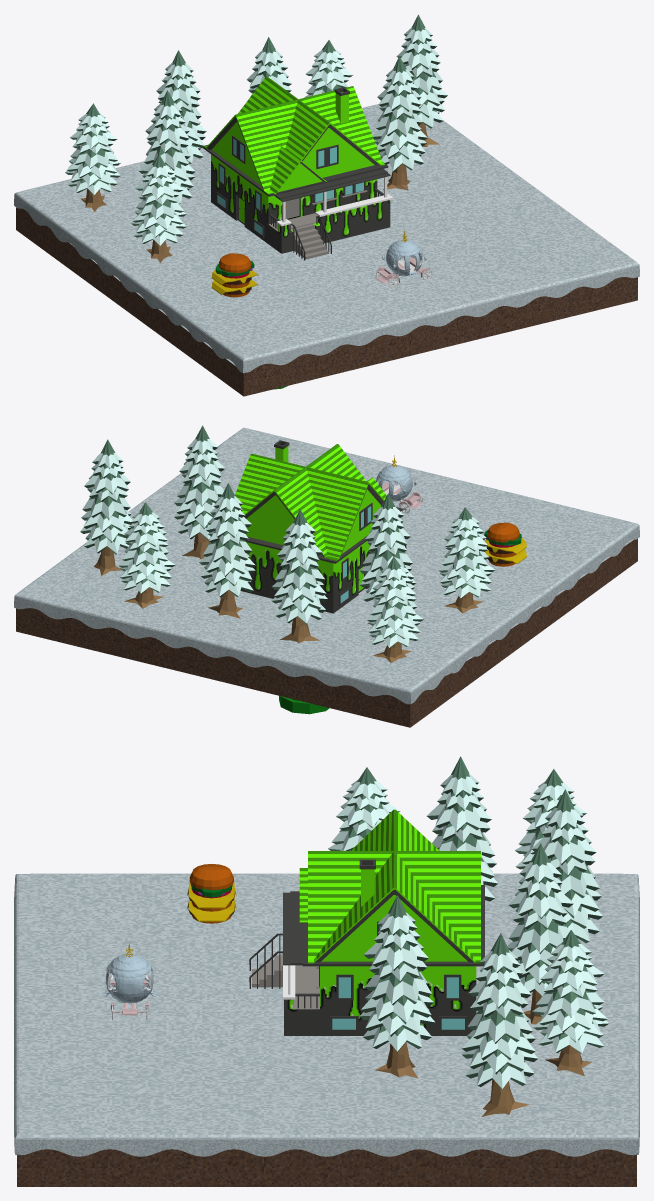
3 views of the same model, one above another, from view 1: azimuth 30°, elevation 25°; view 2: azimuth 150°, elevation 25°; view 3: azimuth 270°, elevation 25° (orthographic). The views are drawn at different scales.
Visible parts, largest first — view 1: Cube.003, Cube.754, VEHICLES_FANTASY_CARRIAGE, OBJRANDOM_HAMBURGER; view 2: Cube.003, Cube.754, OBJRANDOM_HAMBURGER, VEHICLES_FANTASY_CARRIAGE, UNDERGROUND_PIPES; view 3: Cube.003, Cube.754, OBJRANDOM_HAMBURGER, VEHICLES_FANTASY_CARRIAGE.
Boxes of the visible parts, left/top/right/bottom form: Cube.003: left=14, top=14, right=639, bottom=396; Cube.754: left=202, top=76, right=393, bottom=260; VEHICLES_FANTASY_CARRIAGE: left=375, top=230, right=432, bottom=288; OBJRANDOM_HAMBURGER: left=211, top=253, right=258, bottom=297; Cube.003: left=14, top=425, right=639, bottom=727; Cube.754: left=235, top=440, right=406, bottom=613; OBJRANDOM_HAMBURGER: left=484, top=522, right=526, bottom=566; VEHICLES_FANTASY_CARRIAGE: left=376, top=455, right=423, bottom=513; UNDERGROUND_PIPES: left=279, top=696, right=329, bottom=714; Cube.003: left=14, top=756, right=639, bottom=1186; Cube.754: left=249, top=809, right=484, bottom=1035; OBJRANDOM_HAMBURGER: left=187, top=864, right=236, bottom=923; VEHICLES_FANTASY_CARRIAGE: left=103, top=943, right=155, bottom=1019.
Size of the model in its own units: 4040 by 2275 by 4040.
Materials: 25 (4 with a texture image).
